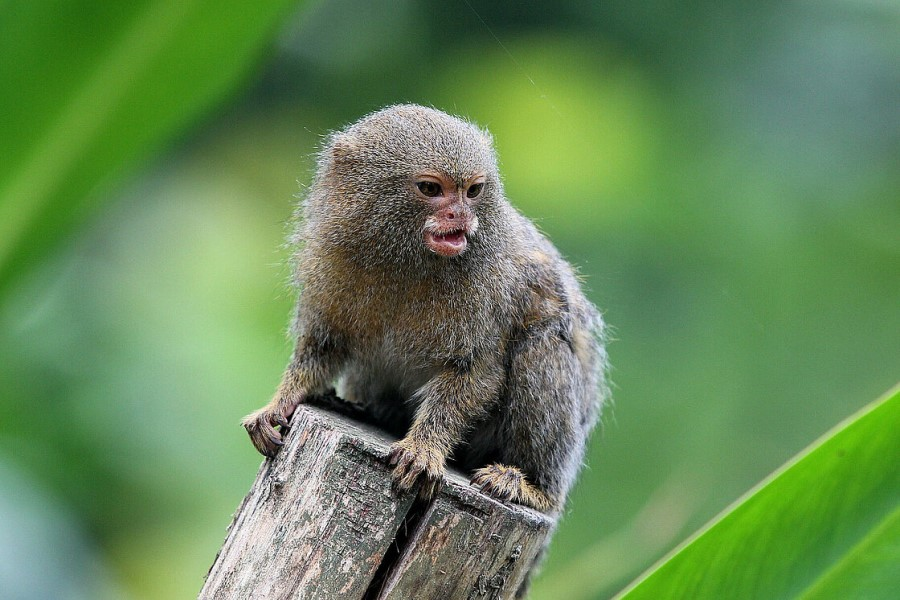PygmyMarmoset: (302, 114, 603, 477)
